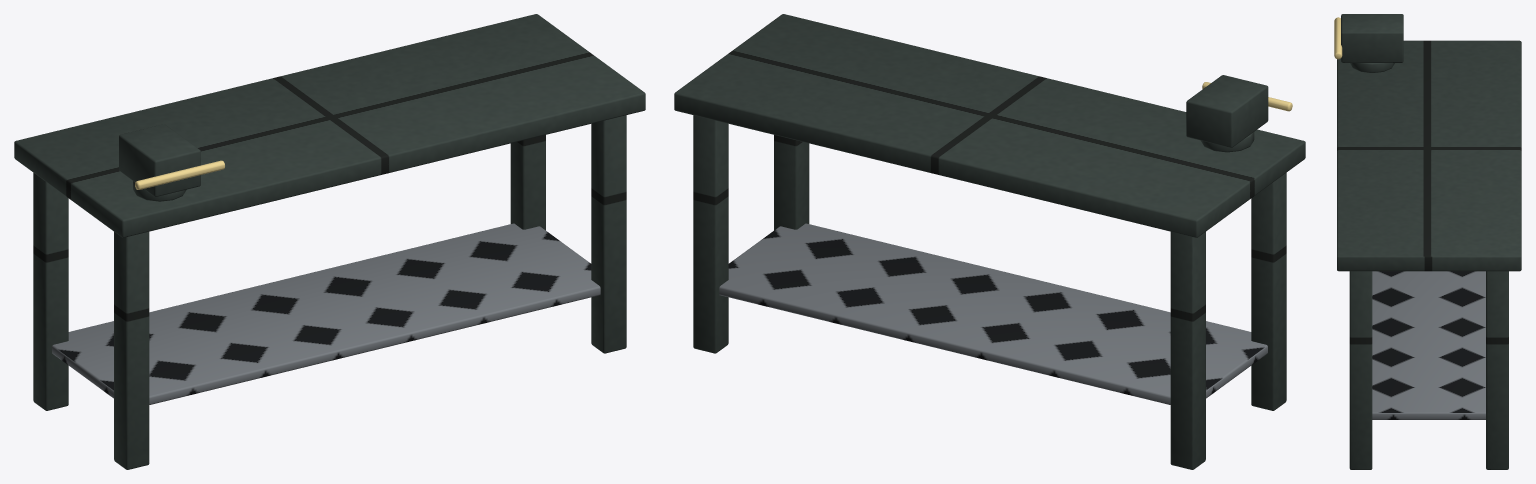
The model's file is WK_FURN_BENCH_A_01.glb.
The picture shows the model from 3 angles, left to right: view 1: azimuth 30°, elevation 25°; view 2: azimuth 150°, elevation 25°; view 3: azimuth 270°, elevation 25°; orthographic projection. The views are drawn at different scales.
Visible parts, largest first — view 1: WK_FURN_BENCH_A_01; view 2: WK_FURN_BENCH_A_01; view 3: WK_FURN_BENCH_A_01.
Part boxes in pixels (x1=…): WK_FURN_BENCH_A_01: x1=14, y1=14, x2=645, y2=469; WK_FURN_BENCH_A_01: x1=674, y1=14, x2=1305, y2=469; WK_FURN_BENCH_A_01: x1=1334, y1=14, x2=1521, y2=469.
Bounding box in the file's own units: 1.8 × 1.01 × 0.6591.
3 materials, 2 textured.
